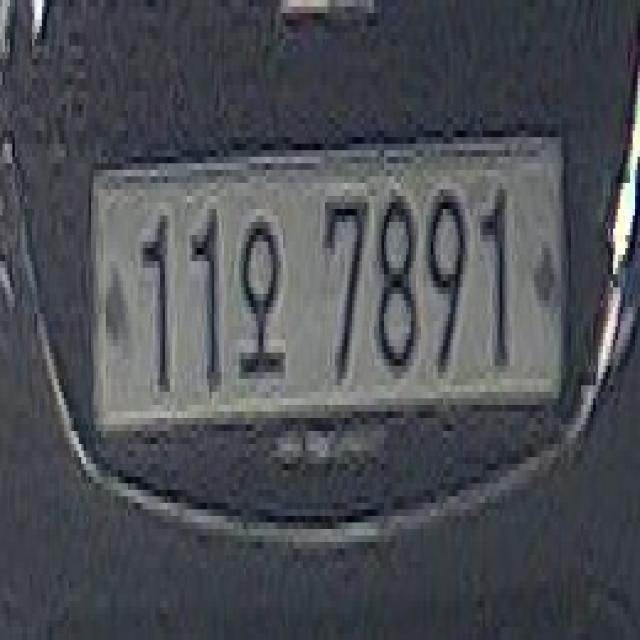plat: (87, 133, 570, 431)
